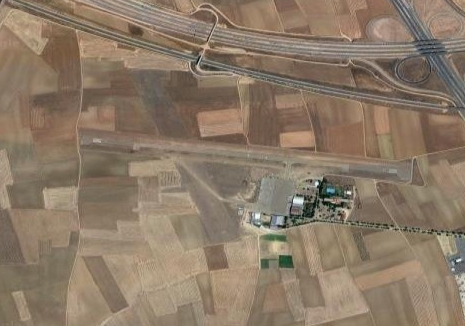airport: (78, 127, 404, 218)
motorway: (215, 26, 303, 59), (393, 1, 443, 59), (303, 34, 395, 65), (426, 39, 465, 93), (156, 10, 215, 43), (79, 1, 157, 25), (406, 92, 464, 111), (58, 14, 108, 36), (204, 58, 254, 80), (354, 88, 406, 109), (107, 33, 157, 54), (156, 45, 206, 66), (253, 68, 303, 89), (304, 81, 354, 102), (9, 1, 59, 21)
